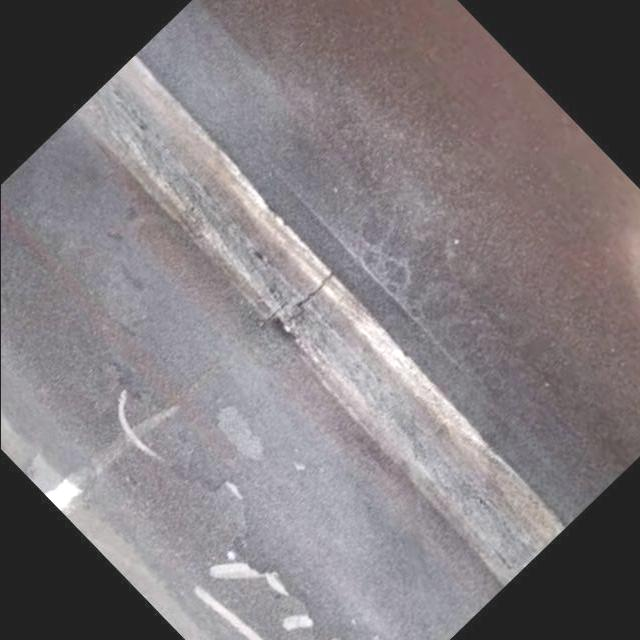defect: (286, 267, 339, 327)
